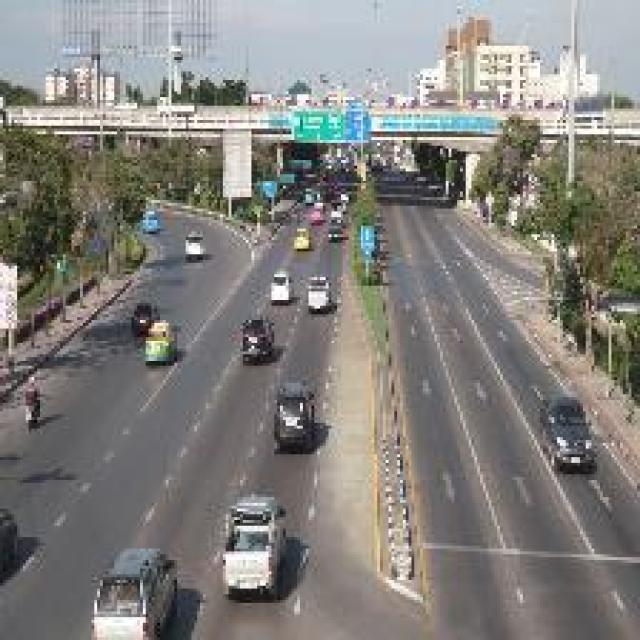other: (279, 218, 320, 260)
